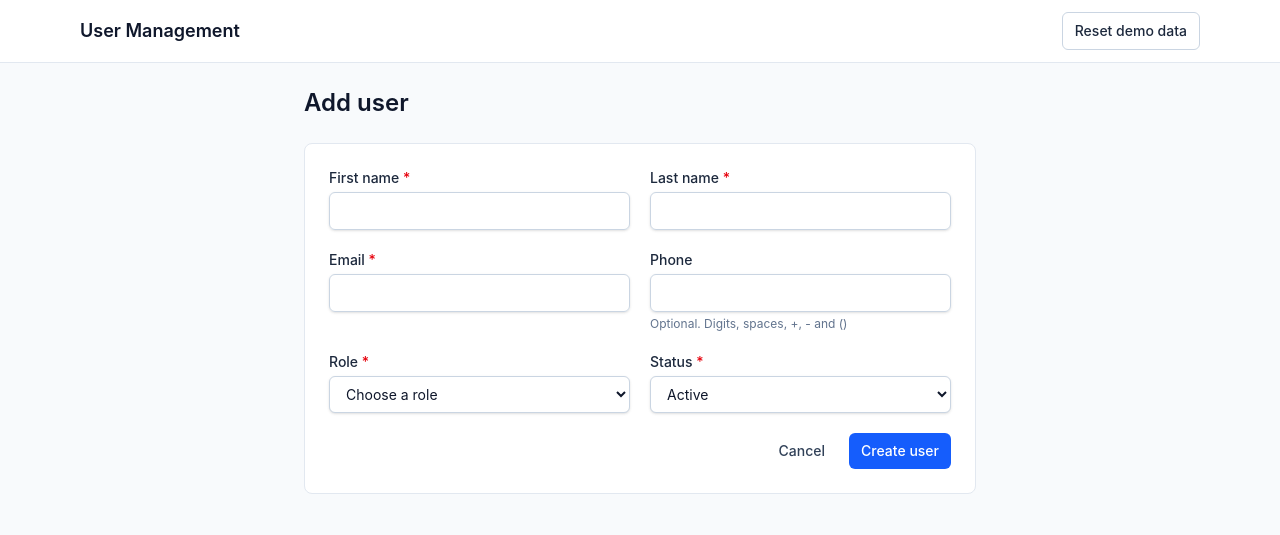
CreateUserPage › shows an error only after the field is left
Click the field labelled "First name *" at (480, 211), box [329,192,630,230]
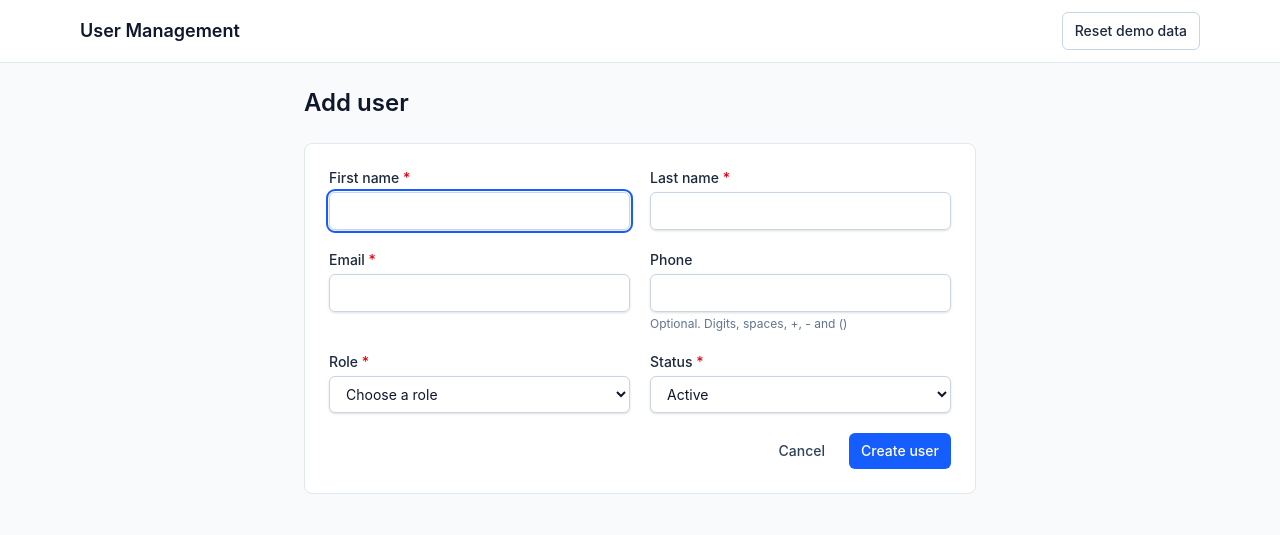
Expected: the text "First name is required" is not shown
Press Tab
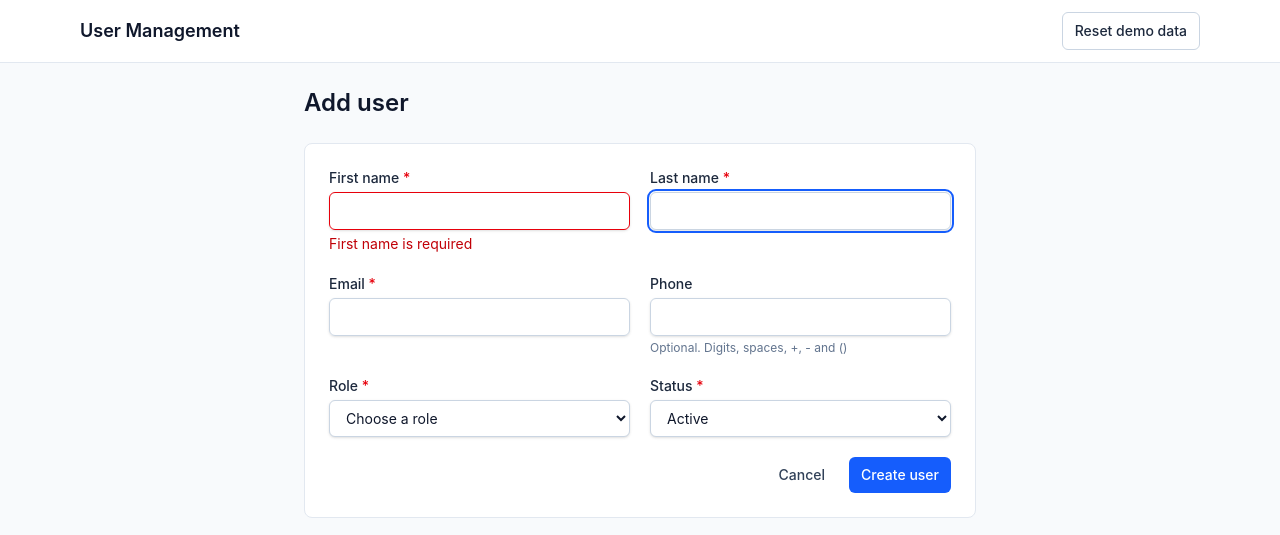
Now the text "First name is required" is shown, box [329,235,472,252]
